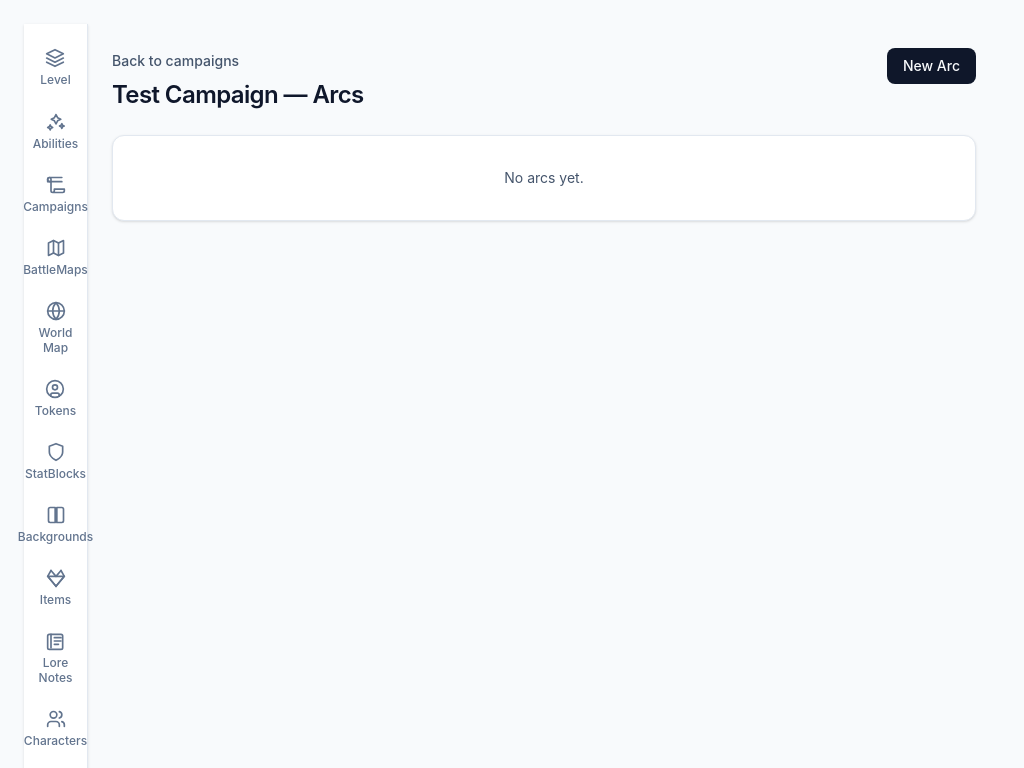
Scenario: ArcsPage › create arc › opens create dialog when New Arc is clicked
expect the text "No arcs yet." is shown: met, box [504,169,584,186]
Click the button "New Arc" at [931, 66], box [887,48,976,84]
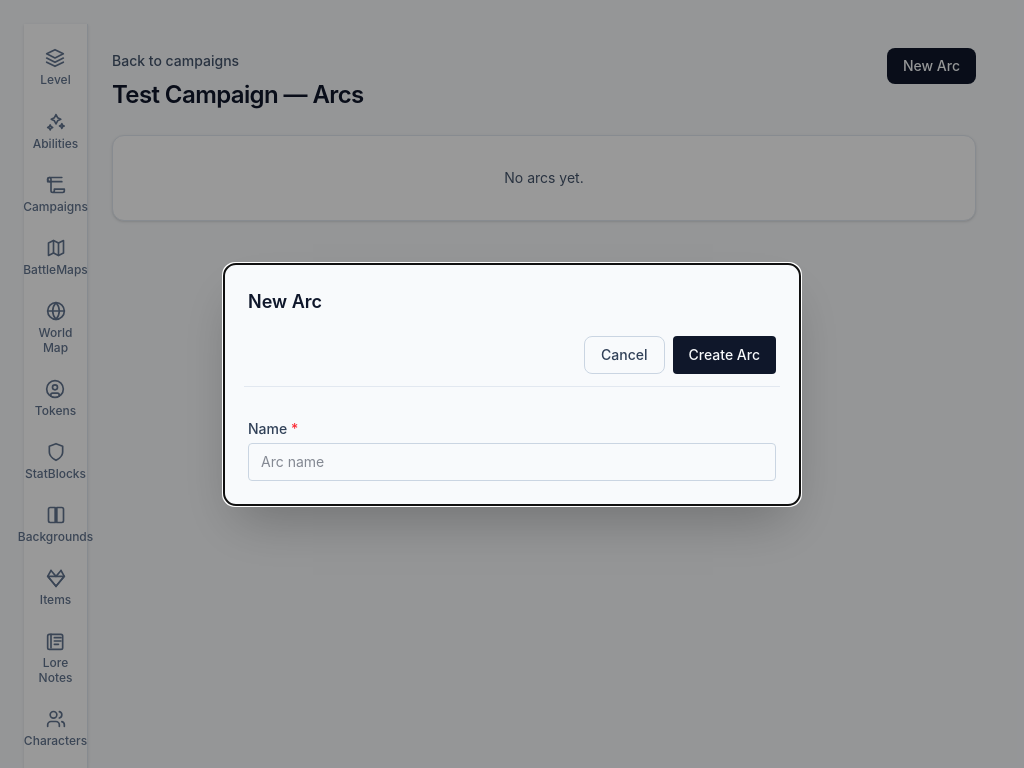
expect the dialog "New Arc" is shown: met, box [224,264,800,504]
